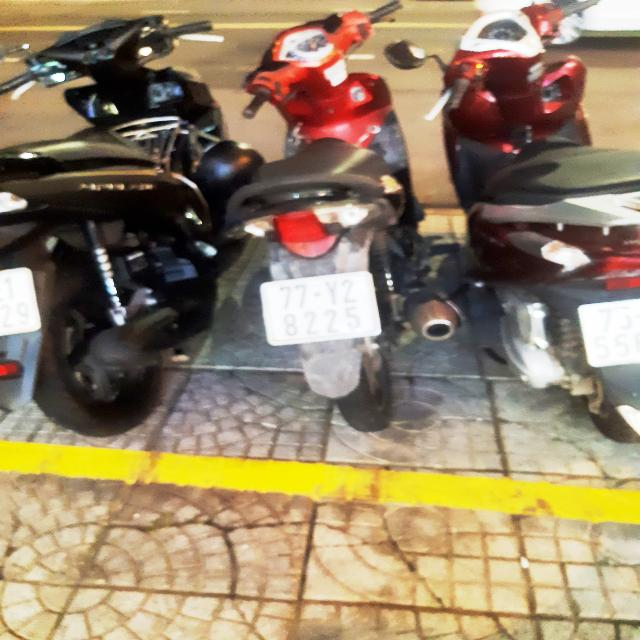license_plate: (264, 273, 381, 347)
